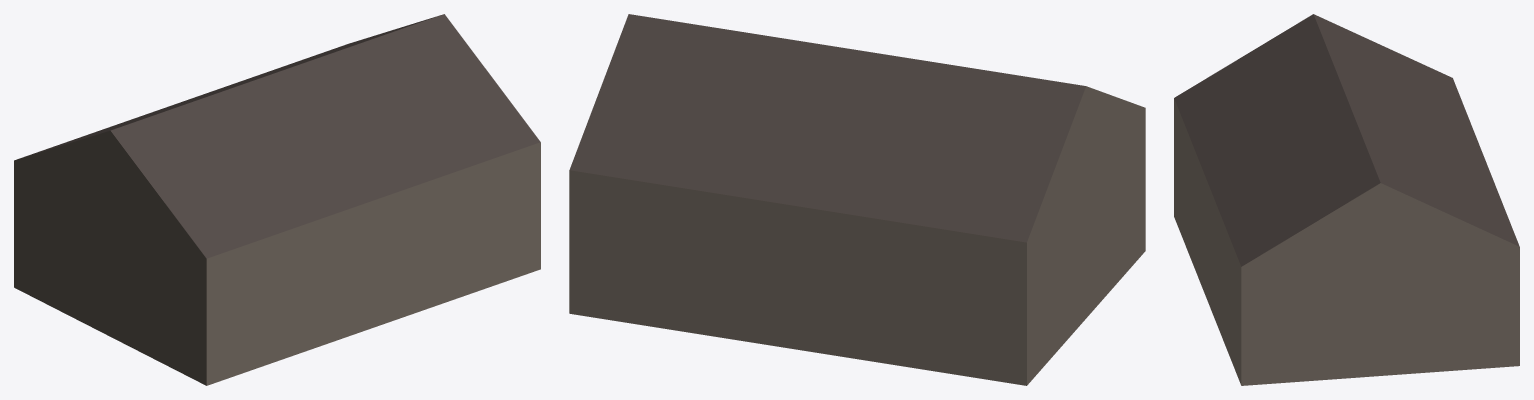
3 views of the same model, side by side, from view 1: azimuth 30°, elevation 25°; view 2: azimuth 150°, elevation 25°; view 3: azimuth 270°, elevation 25° (orthographic). The views are drawn at different scales.
Parts seen in each view (by area): view 1: HP-w1376988699; view 2: HP-w1376988699; view 3: HP-w1376988699.
Boxes of the visible parts, left/top/right/bottom form: HP-w1376988699: left=14, top=14, right=540, bottom=385; HP-w1376988699: left=569, top=14, right=1145, bottom=385; HP-w1376988699: left=1174, top=14, right=1519, bottom=385.
Size of the model in its own units: 20.42 by 9.73 by 15.79.
